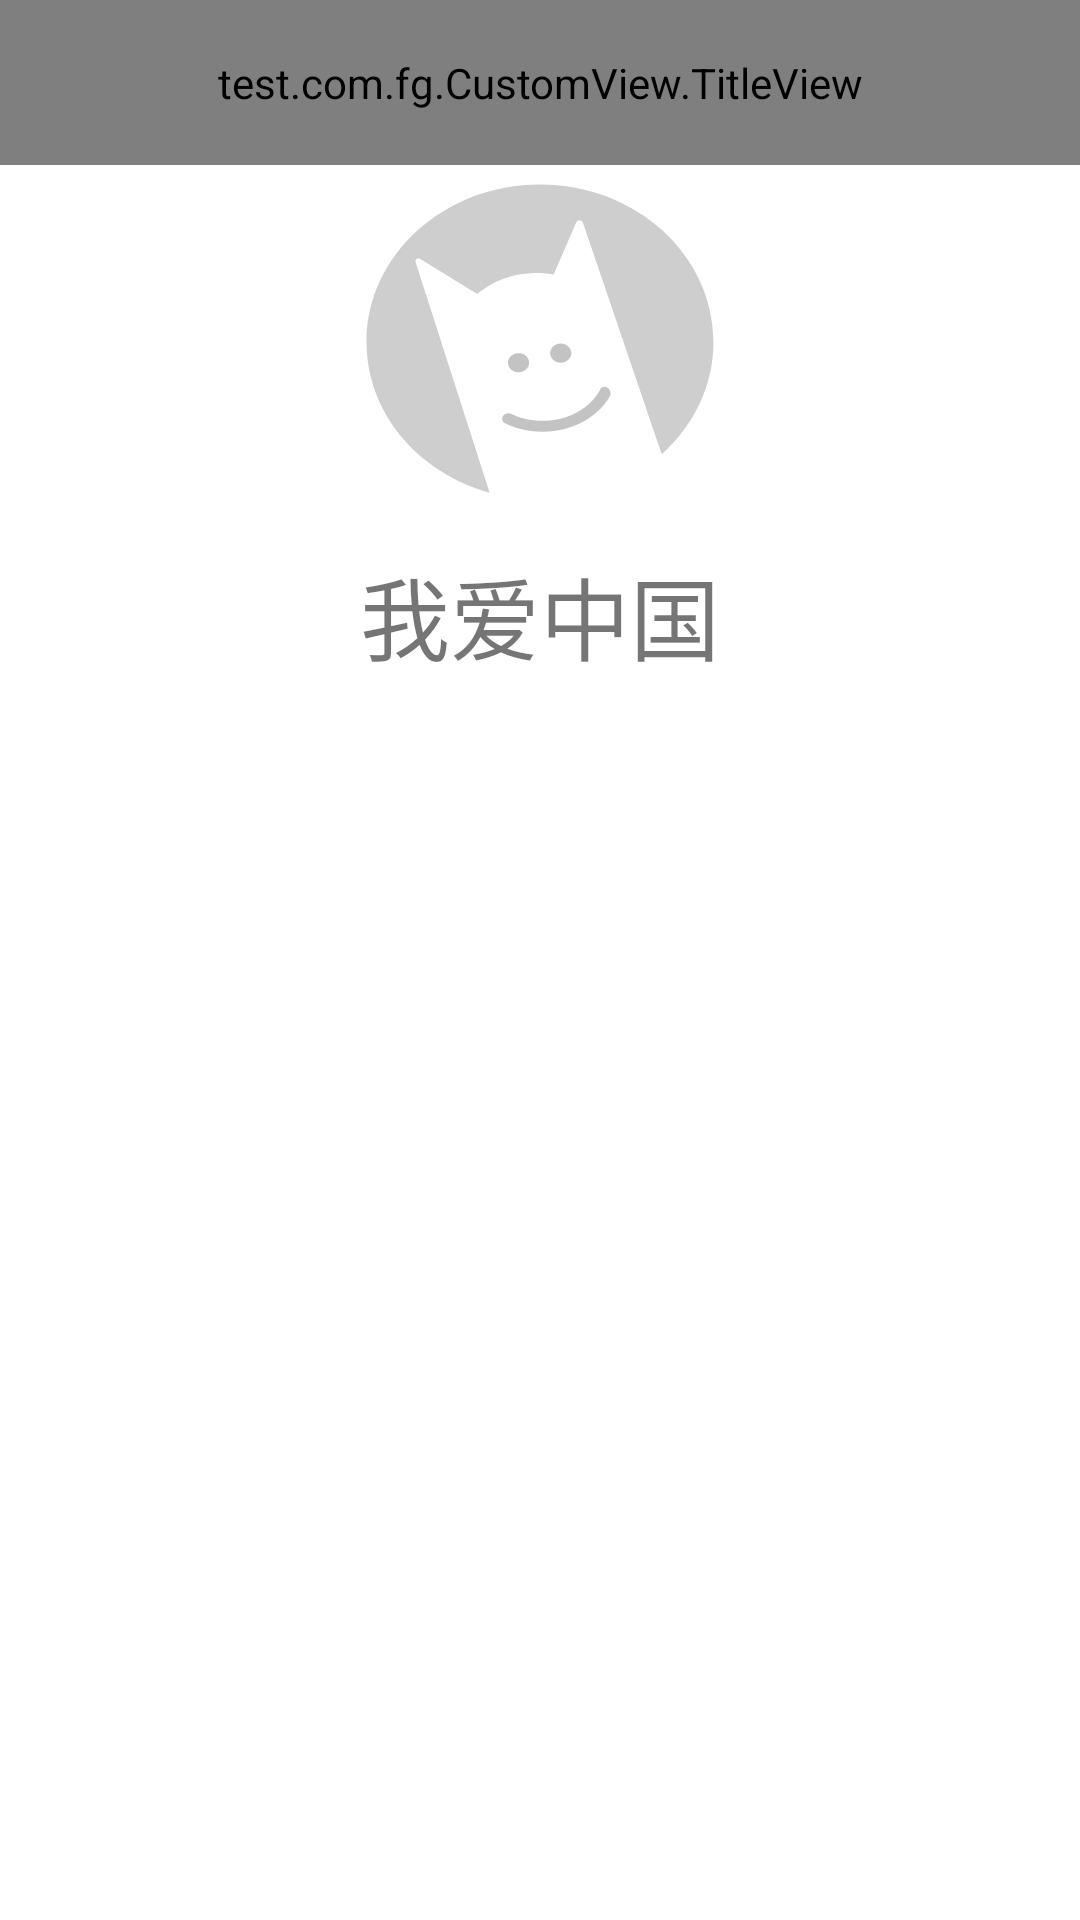

Point at icon controls on the screen. Image size 1080px x 1920px, points as point (x, y).
head: point (540, 338)
